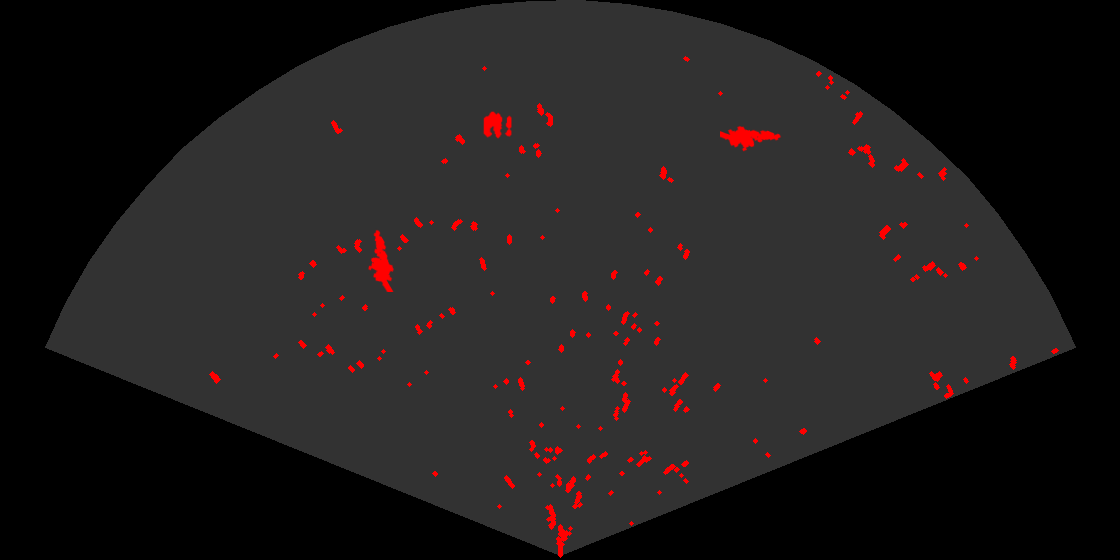ball: (482, 110, 513, 140)
frogman: (367, 228, 396, 292), (720, 124, 783, 153)
